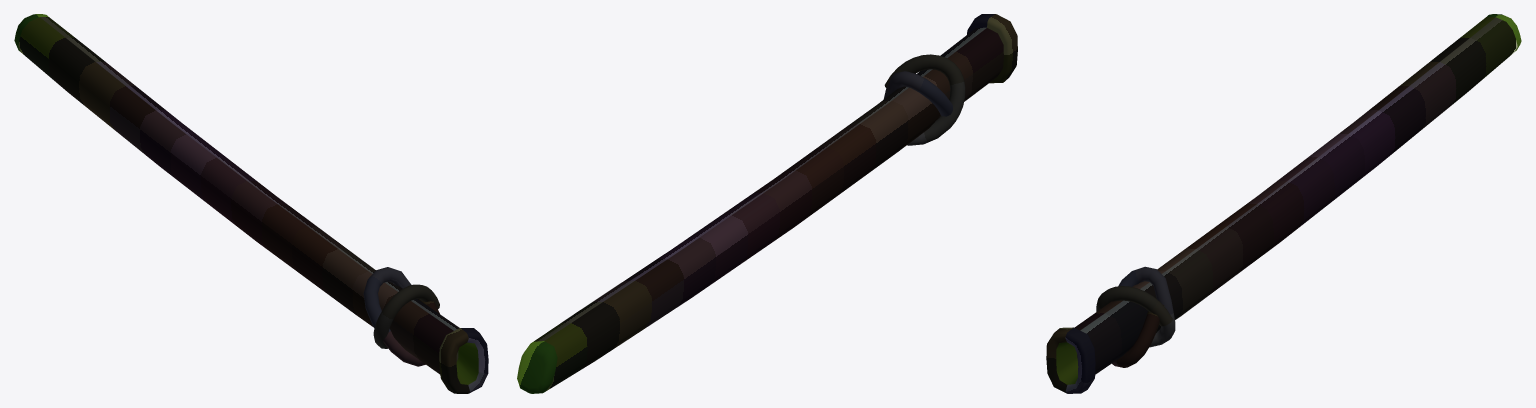
The model's file is Scabbard.glb.
3 renders of one model, left to right at view 1: azimuth 30°, elevation 25°; view 2: azimuth 150°, elevation 25°; view 3: azimuth 330°, elevation 25°, orthographic. The views are drawn at different scales.
Parts seen in each view (by area): view 1: Cube.001; view 2: Cube.001; view 3: Cube.001.
Boxes of the visible parts, x1,y1,x2,y2 form: Cube.001: (14, 14, 488, 393); Cube.001: (517, 14, 1017, 393); Cube.001: (1046, 14, 1521, 393).
Size of the model in its own units: 0.0749 by 0.0774 by 0.8475.
1 material, 1 textured.
